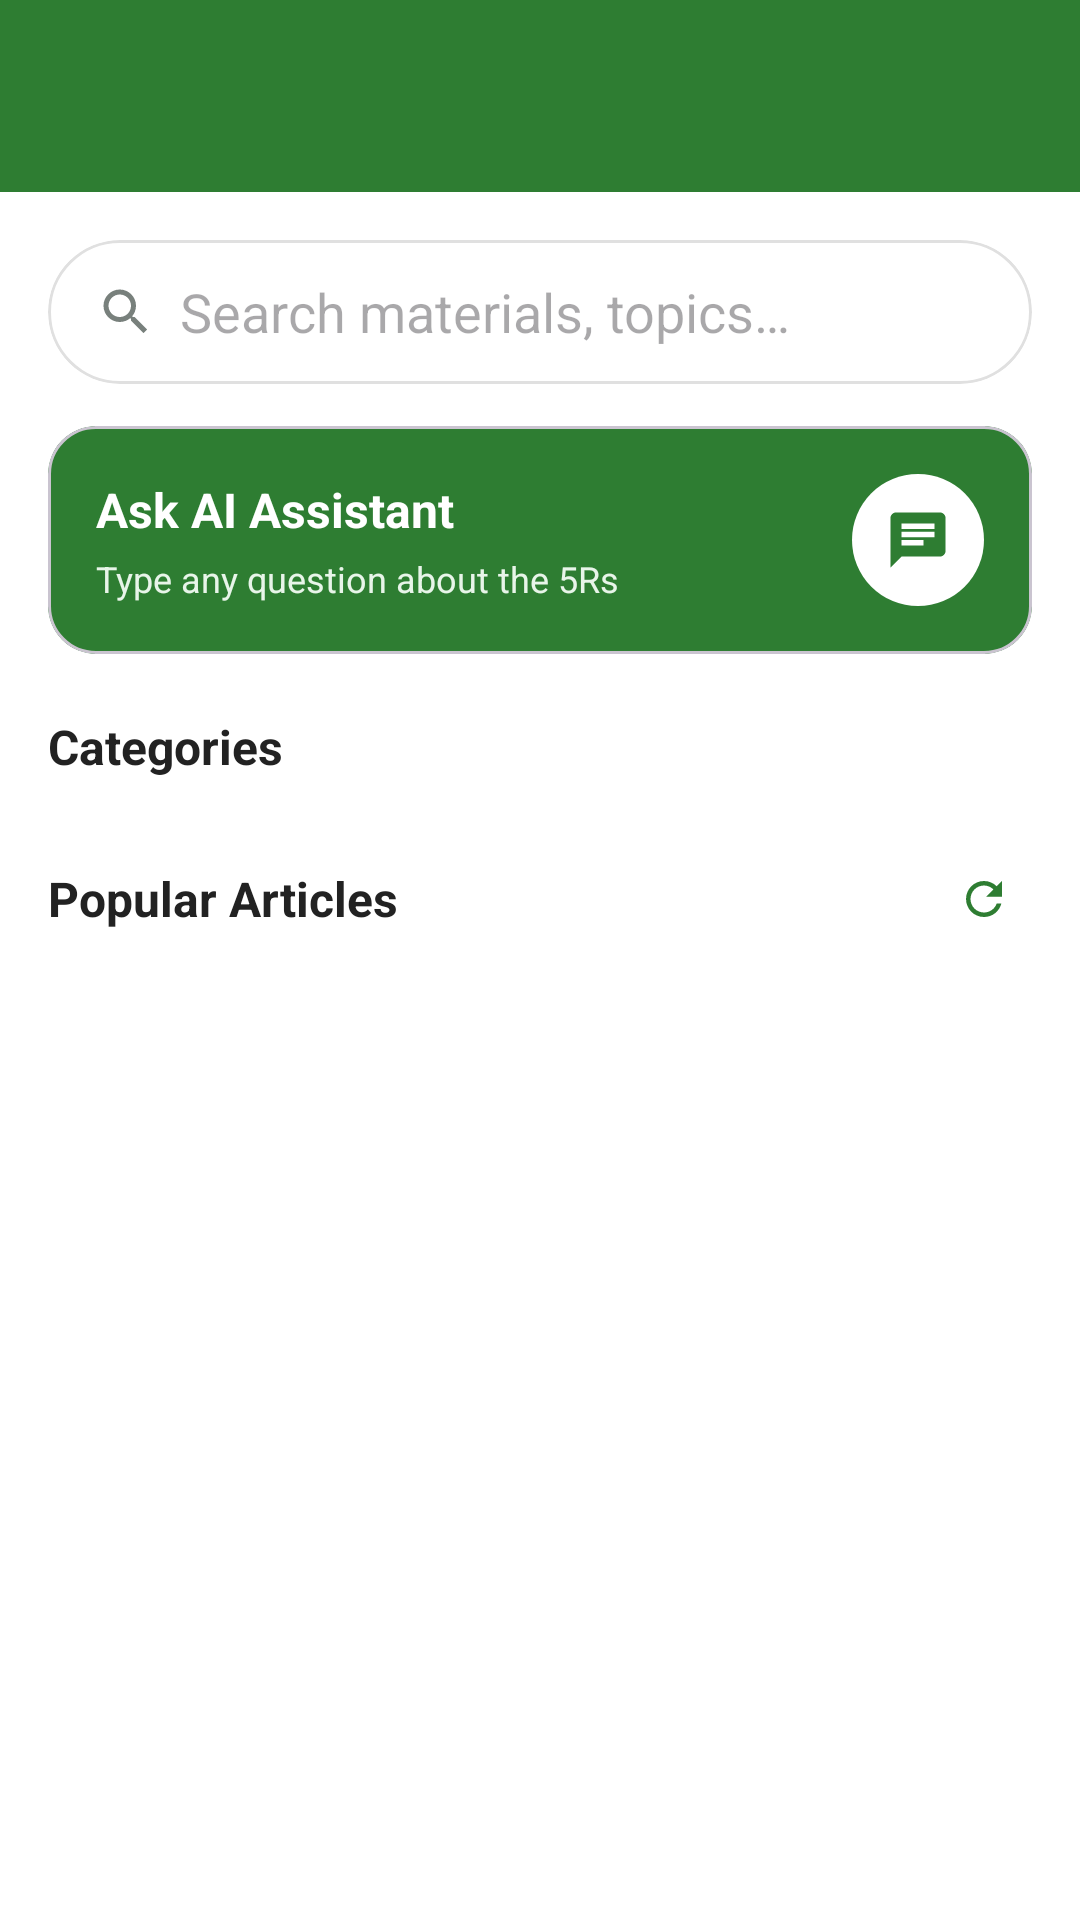

Screen size 1080px x 1920px. Icon name, then its center in pixels as (x=x, y=y):
Ask AI Assistant: (x=918, y=540)
Refresh articles using AI: (x=984, y=899)
